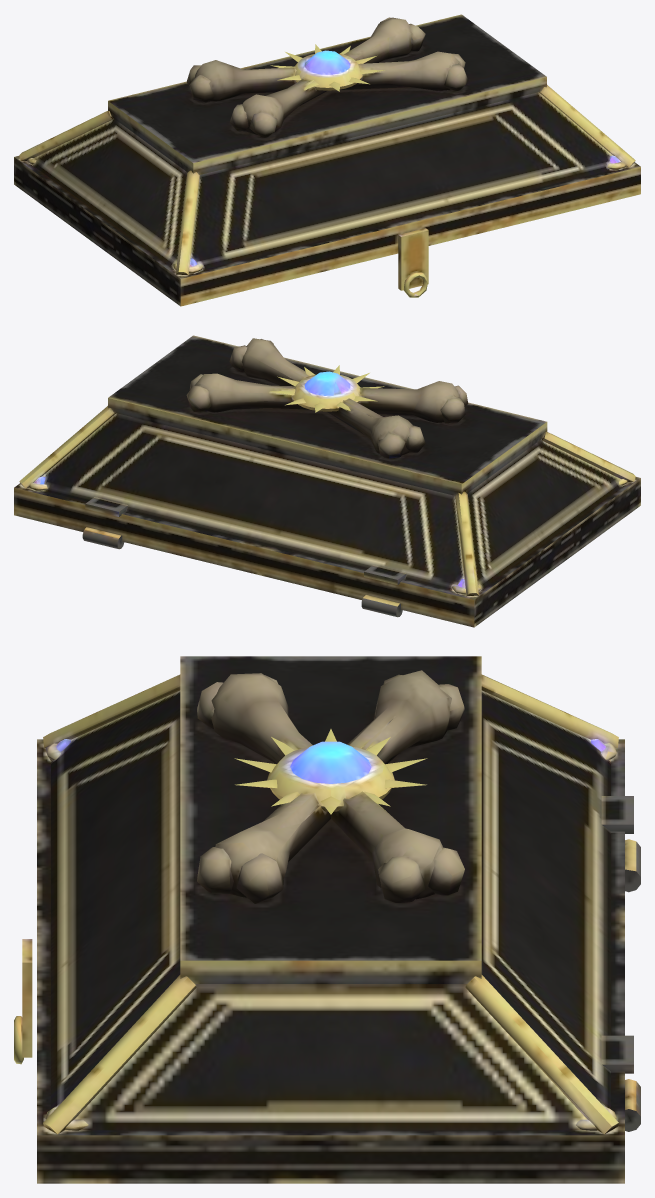
File: chest_vault_lid.glb
The picture shows the model from 3 angles, top to bottom: view 1: azimuth 30°, elevation 25°; view 2: azimuth 150°, elevation 25°; view 3: azimuth 270°, elevation 25°; orthographic projection. The views are drawn at different scales.
Visible parts, largest first — view 1: chest_vault_lid; view 2: chest_vault_lid; view 3: chest_vault_lid.
Boxes of the visible parts, x1,y1,x2,y2 form: chest_vault_lid: [14, 14, 640, 306]; chest_vault_lid: [14, 335, 640, 627]; chest_vault_lid: [14, 656, 640, 1183].
Size of the model in its own units: 1.32 by 0.4852 by 0.8841.
1 material, 1 textured.
